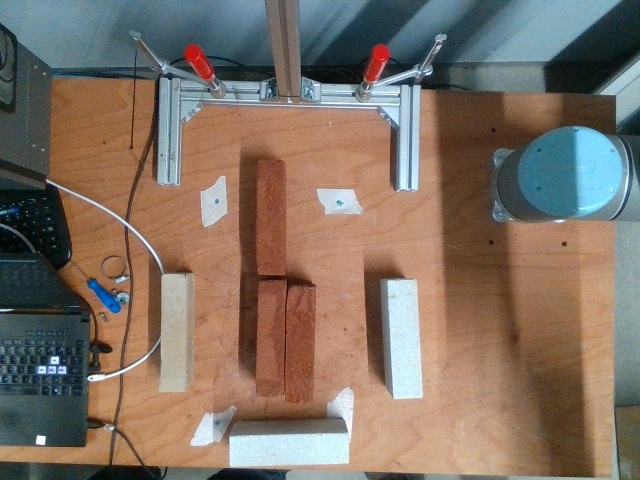brick-side: (387, 279, 421, 400), (228, 434, 345, 466), (255, 280, 284, 396), (287, 287, 314, 402), (257, 161, 282, 275), (160, 275, 184, 391)
